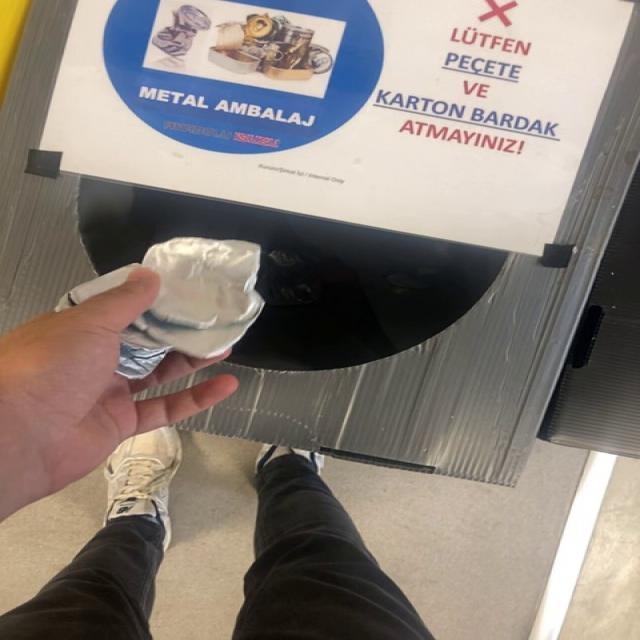Bin: (3, 0, 640, 486)
Metal: (116, 291, 264, 380), (143, 238, 261, 330), (56, 264, 136, 310)
